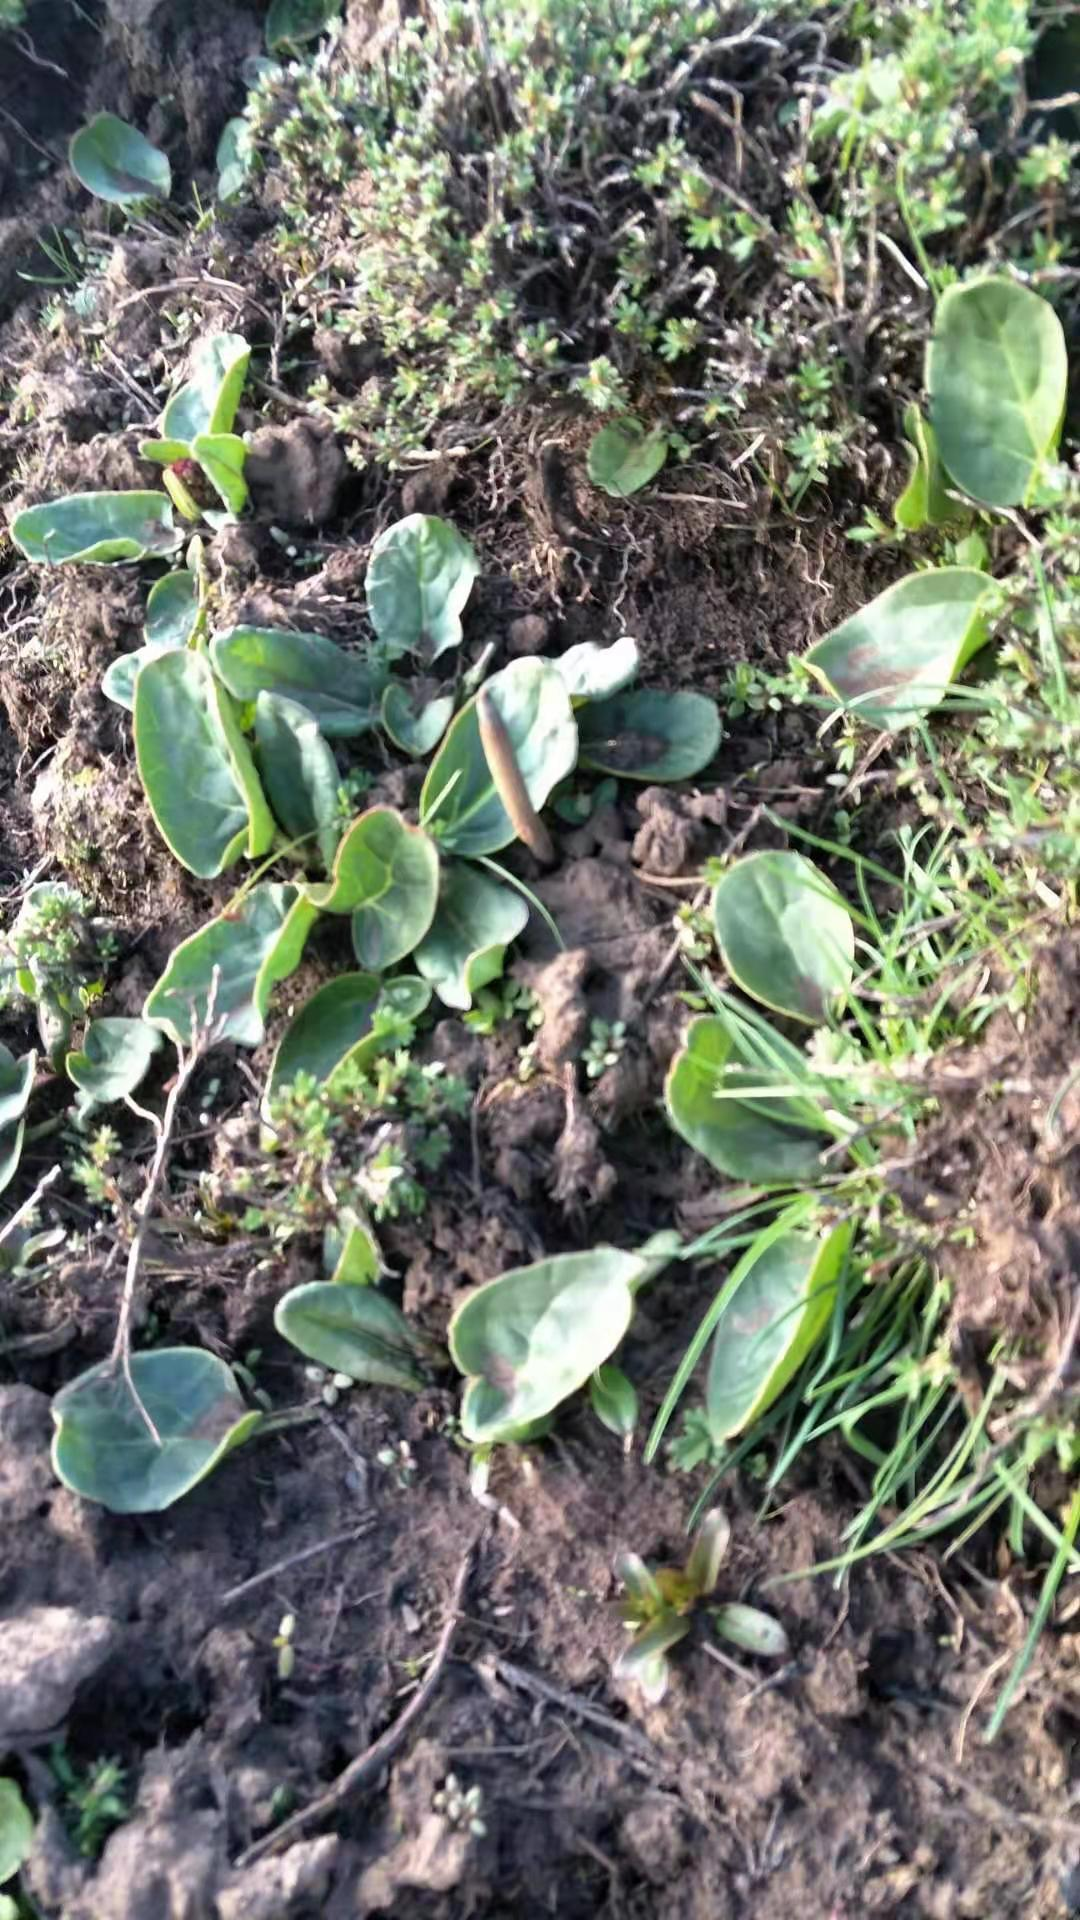cpf: (469, 682, 558, 876)
